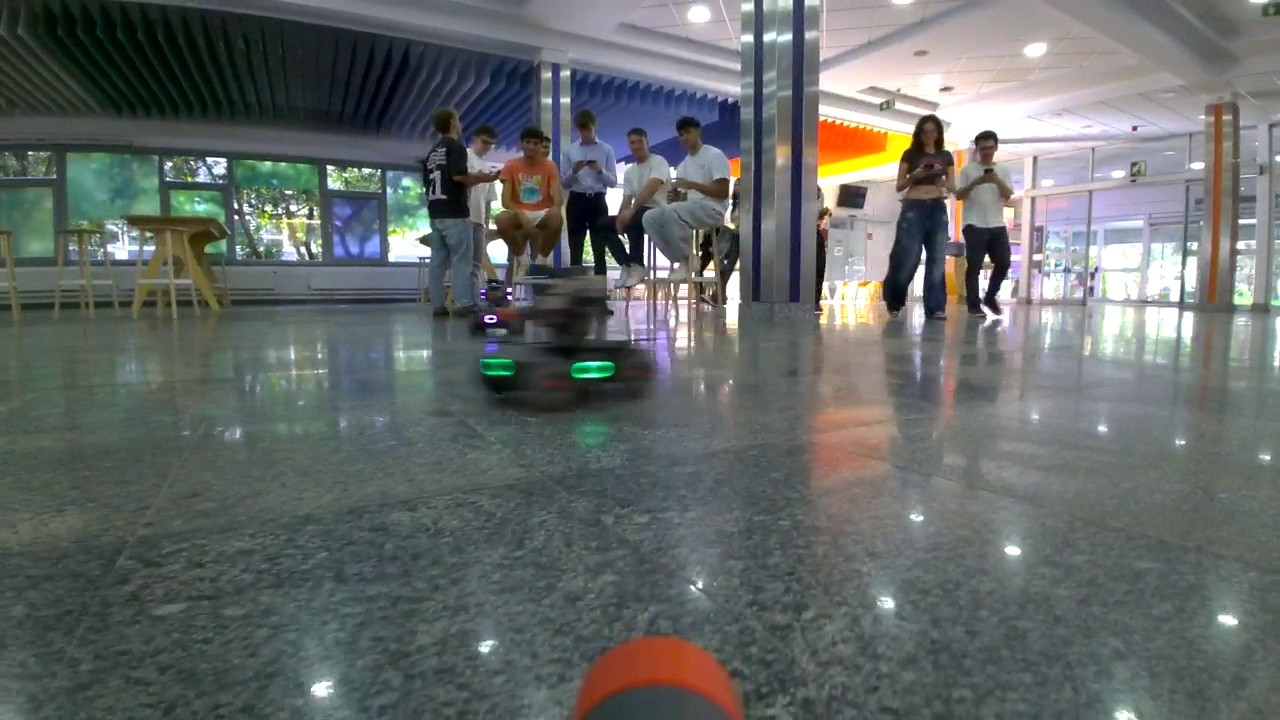robot: (476, 264, 657, 401), (469, 279, 532, 344)
